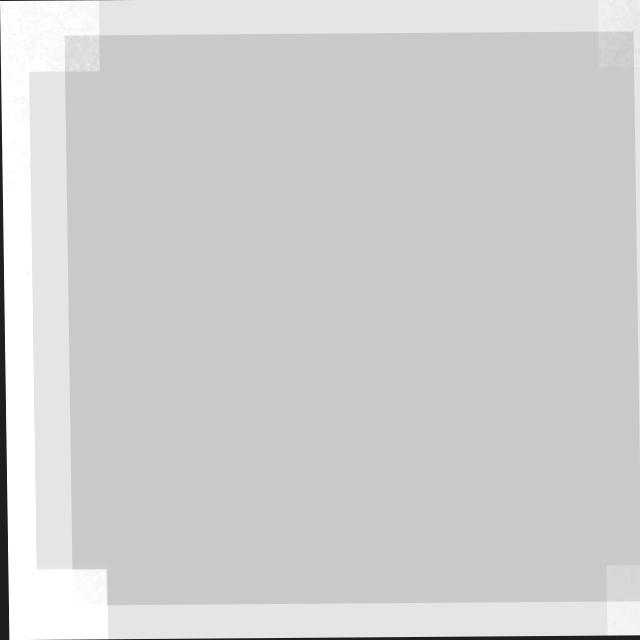qr_code: (64, 31, 640, 605)
